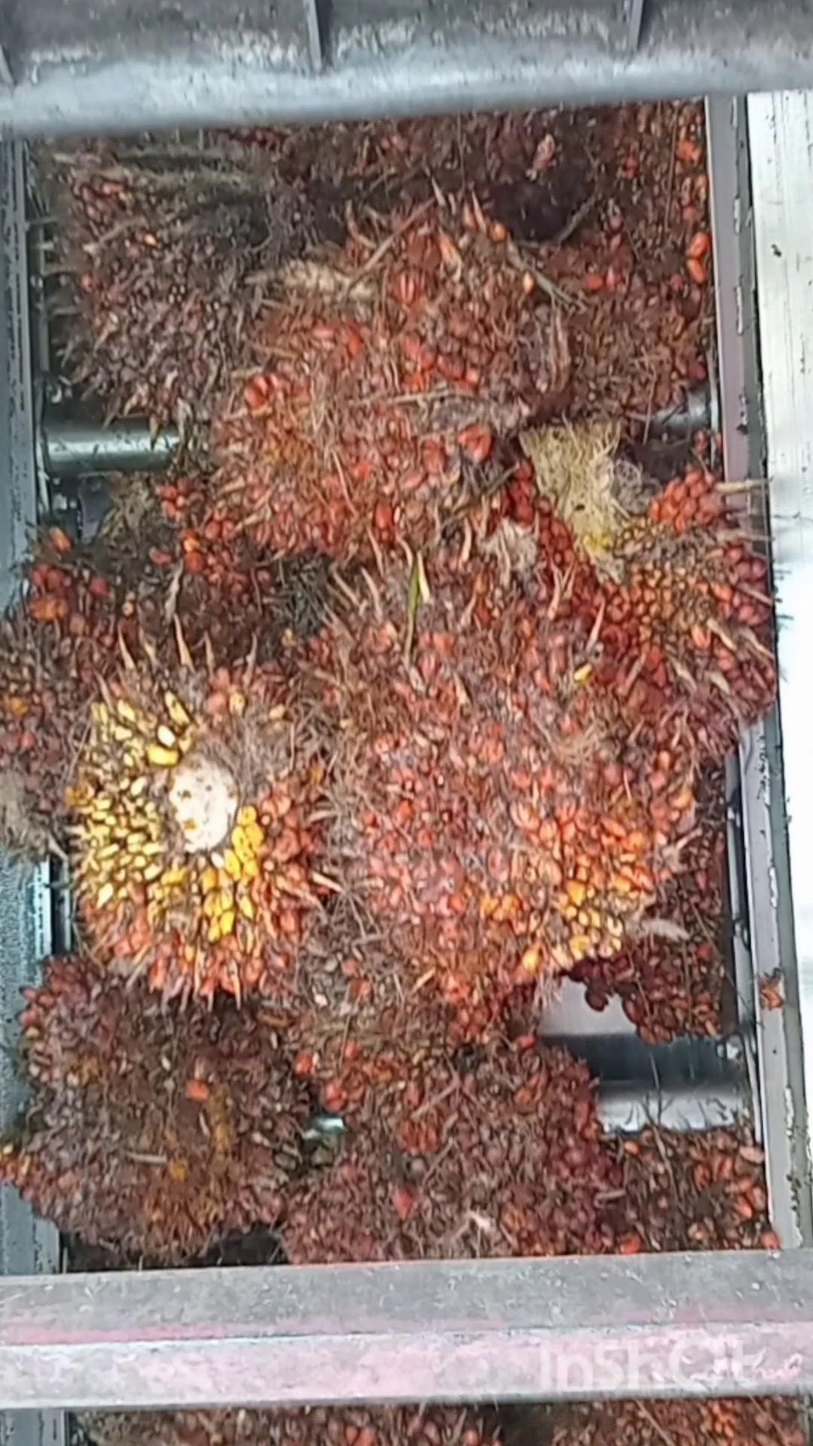Madurado: (215, 207, 542, 572), (358, 633, 700, 975), (75, 651, 361, 994), (23, 960, 327, 1265)
Podrido: (30, 128, 331, 426)
